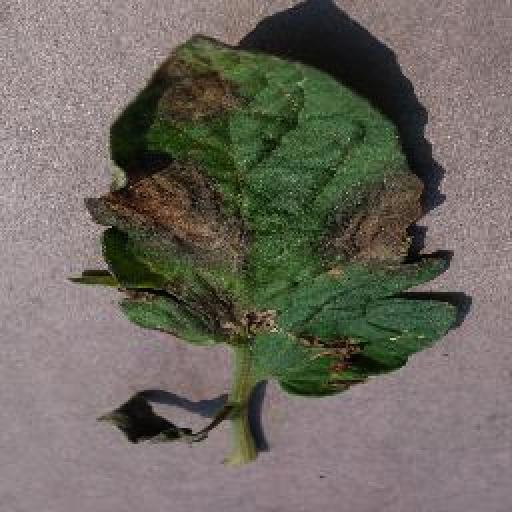disease_tomato: (70, 31, 462, 397)
